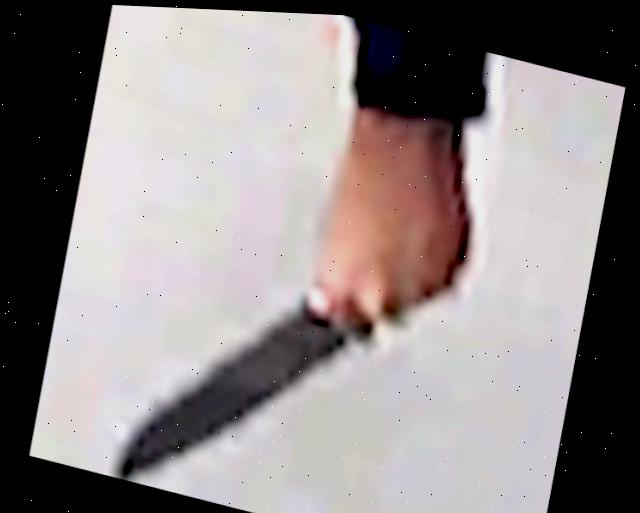long knife: (83, 136, 451, 513)
